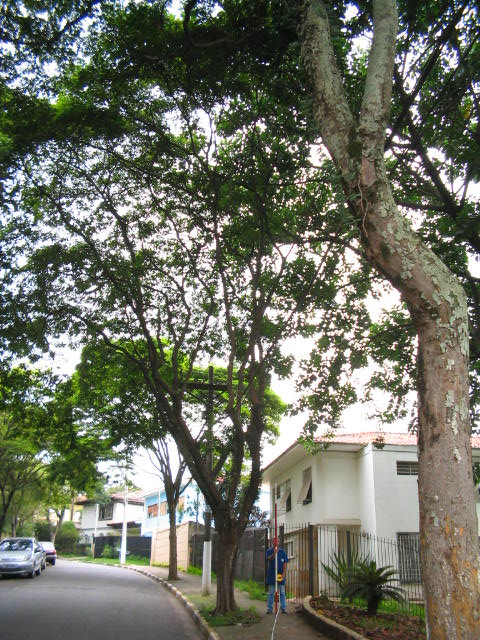crown: (3, 5, 371, 358)
stem: (208, 529, 246, 615)
stick: (266, 483, 282, 614)
tree: (3, 4, 373, 617)
